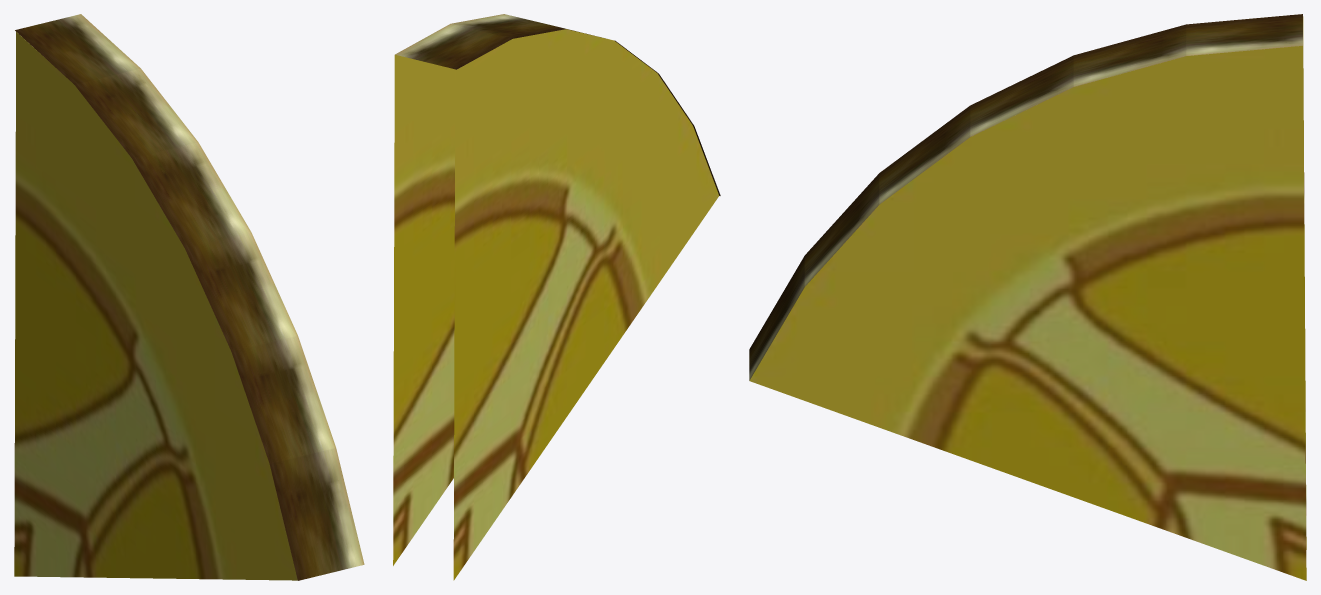
The model's file is SandyTreedome-TokenPiece.glb.
3 views of the same model, side by side, from view 1: azimuth 30°, elevation 25°; view 2: azimuth 150°, elevation 25°; view 3: azimuth 270°, elevation 25° (orthographic). The views are drawn at different scales.
Visible parts, largest first — view 1: TokenPiece; view 2: TokenPiece; view 3: TokenPiece.
Part boxes in pixels (x1,y1,x2,y2): TokenPiece: (14, 14, 364, 580); TokenPiece: (393, 14, 720, 580); TokenPiece: (749, 14, 1306, 580).
Size of the model in its own units: 0.1254 by 0.9853 by 0.9296.
Materials: 1 (1 with a texture image).
